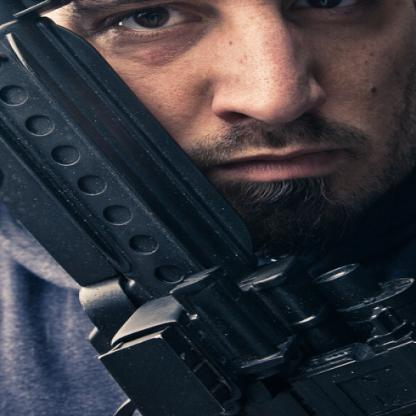gun: (0, 15, 415, 415)
